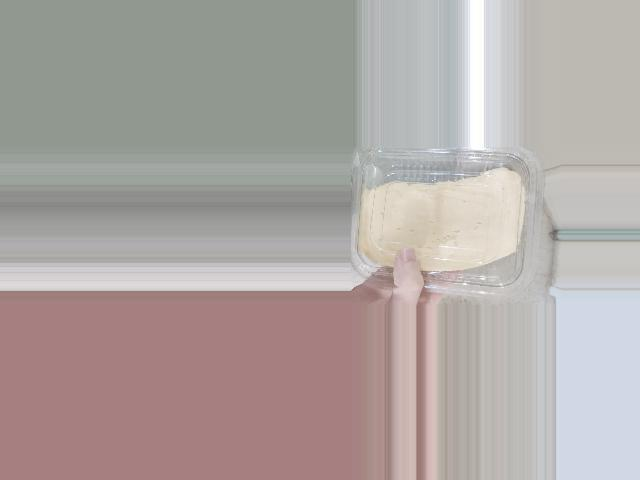cheese: (349, 146, 543, 280)
